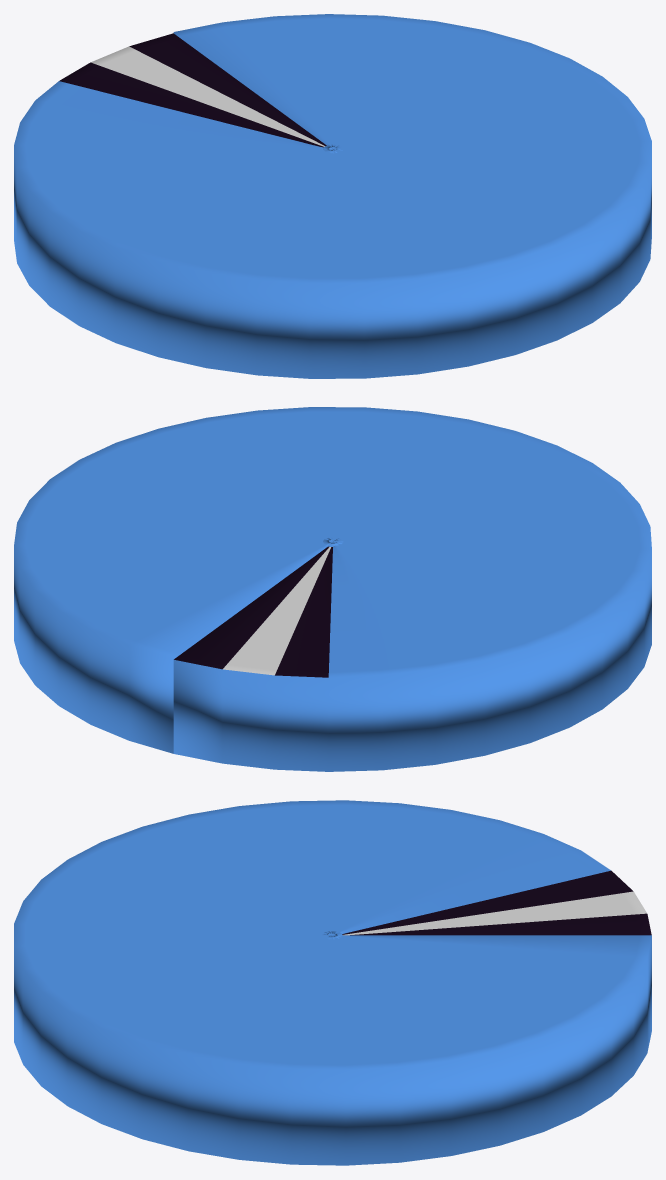
Rendered from secondPrototype.fbx.
3 views of the same model, one above another, from view 1: azimuth 30°, elevation 25°; view 2: azimuth 150°, elevation 25°; view 3: azimuth 270°, elevation 25° (orthographic).
Visible parts, largest first — view 1: Cube; view 2: Cube; view 3: Cube.
Part boxes in pixels (box(x1,y1,x2,y2)): Cube: box(14, 14, 651, 378); Cube: box(14, 407, 651, 771); Cube: box(14, 800, 651, 1165).
Bounding box in the file's own units: 6087 × 1004 × 6082.
